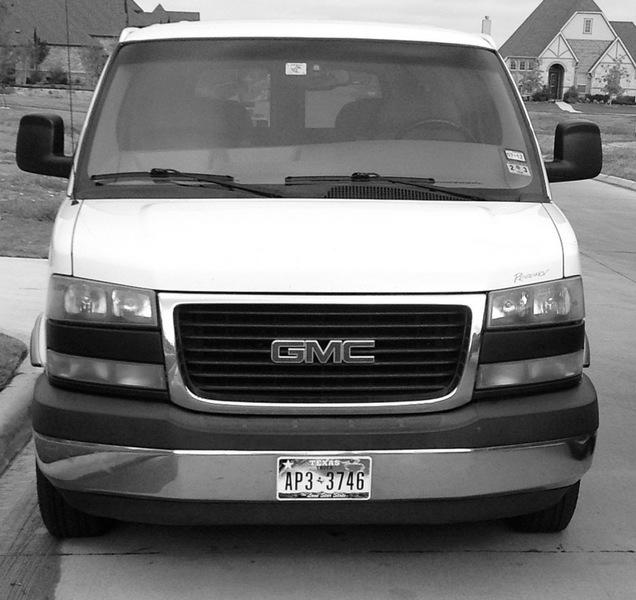car: (12, 15, 609, 543)
